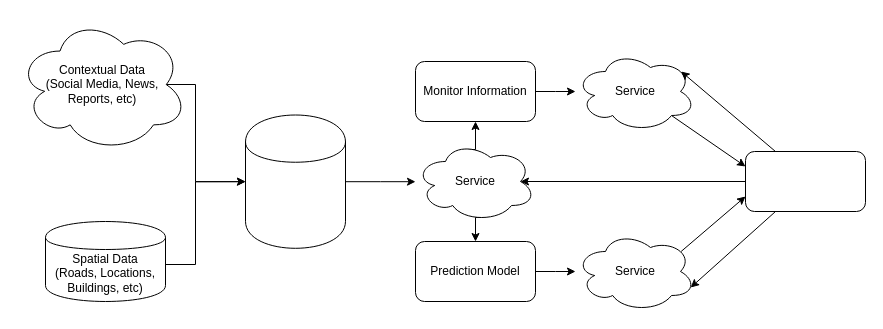
This 883x329 diagram has some shape labels left out. The centre of each missing label's shape, as x and y in pixels:
"Applications" belongs at pixel 805 181.
"Database" belongs at pixel 295 181.
